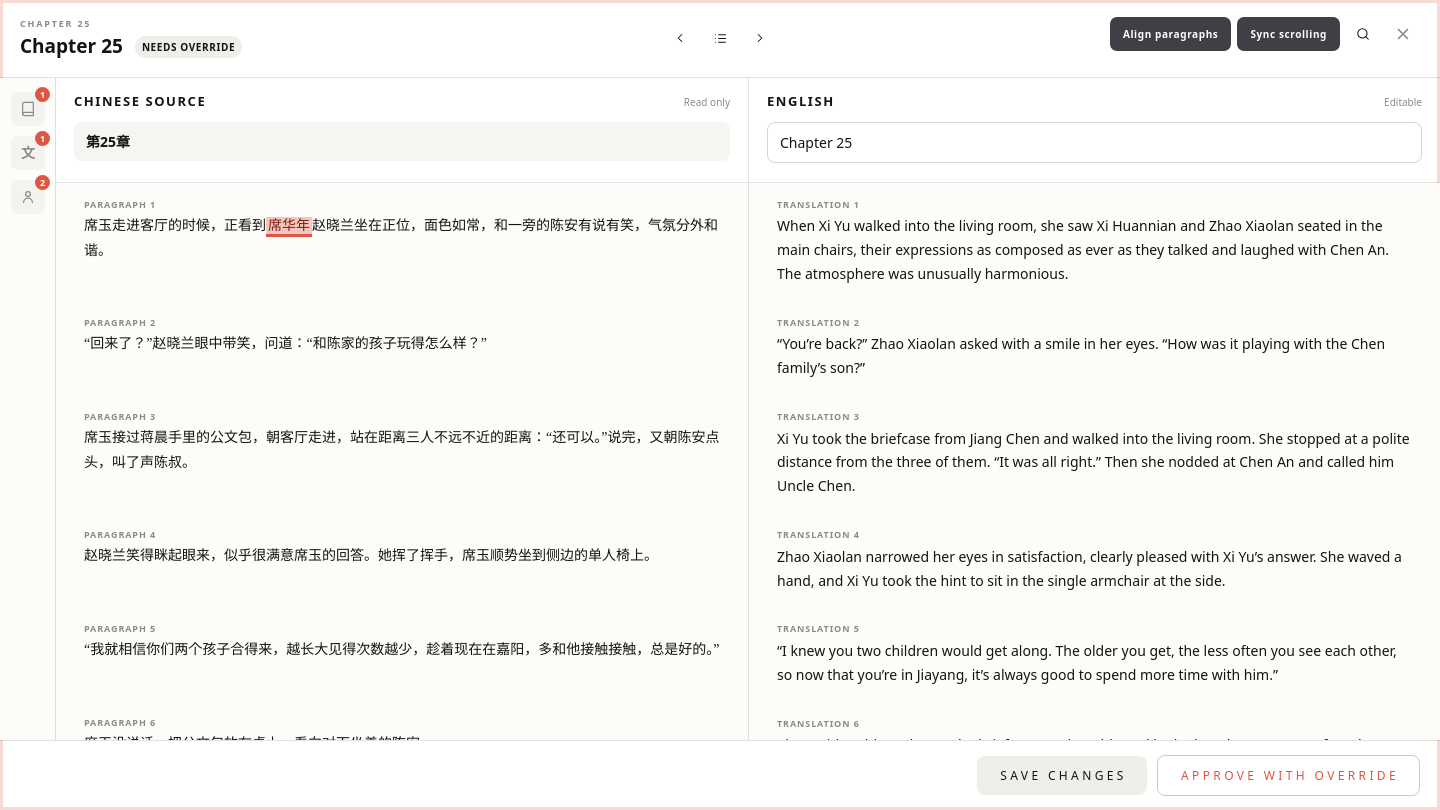
Test: dismisses the chapter index on outside click without stealing focus
The image size is (1440, 810).
Click the button named "Chapter index". click: (720, 38)
box: x1=703 y1=21 x2=737 y2=55
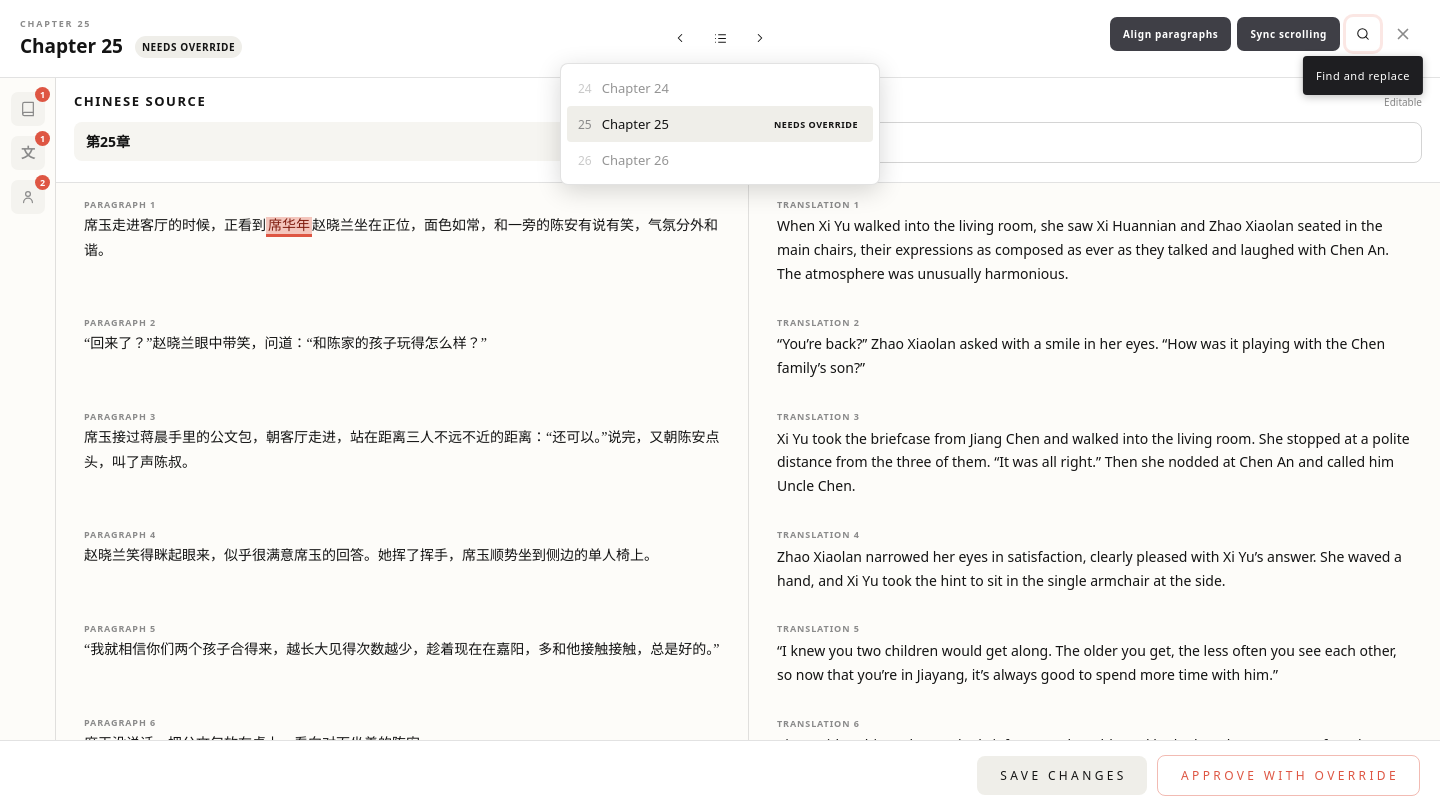
Press the mouse on the button "Find and replace" at (1363, 34), box x1=1346 y1=17 x2=1380 y2=51
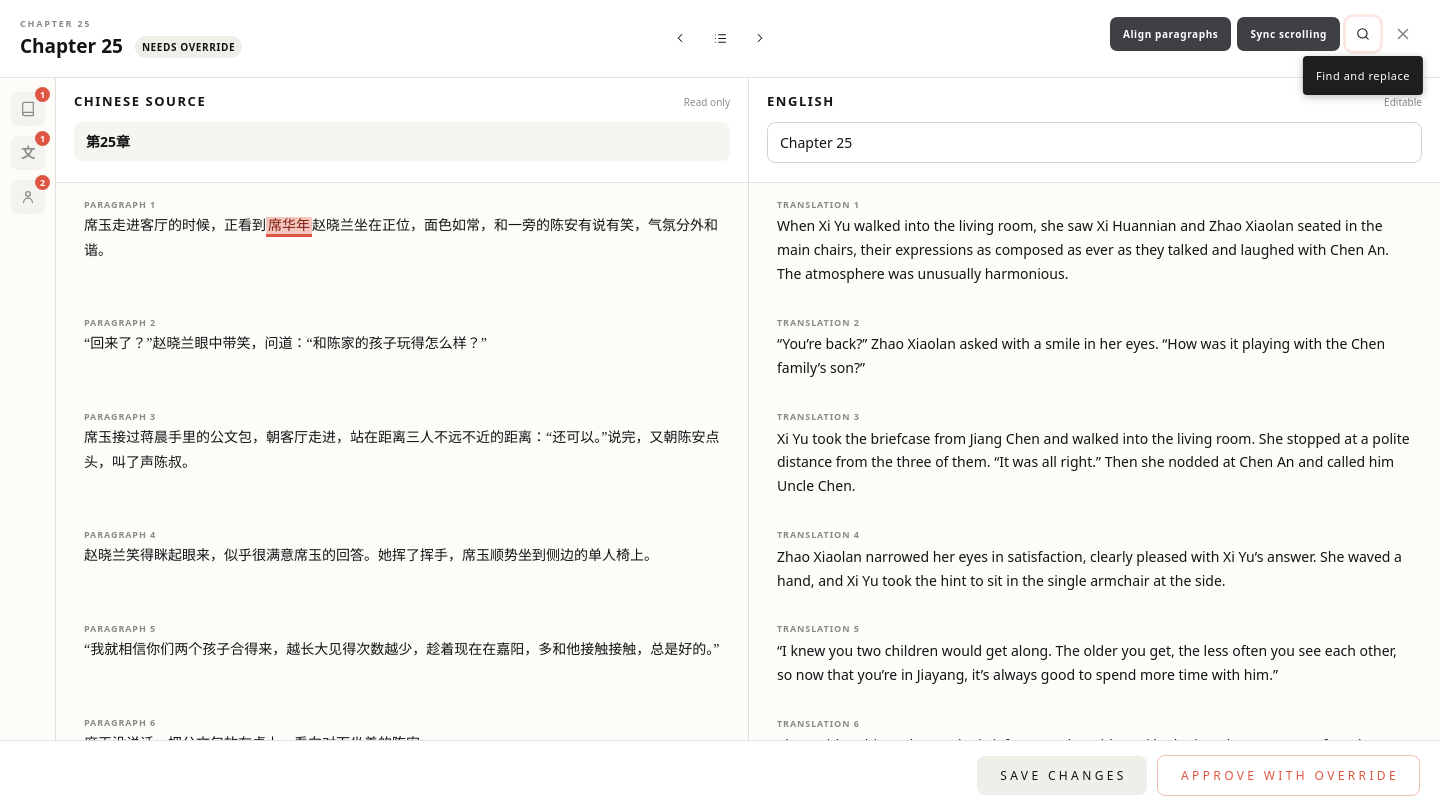
Expected: the element with test id "chapter-index-dropdown" is gone
